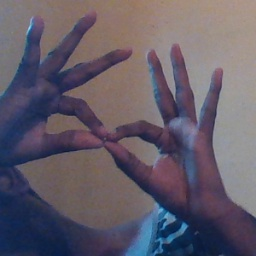B: (21, 77, 178, 195)
